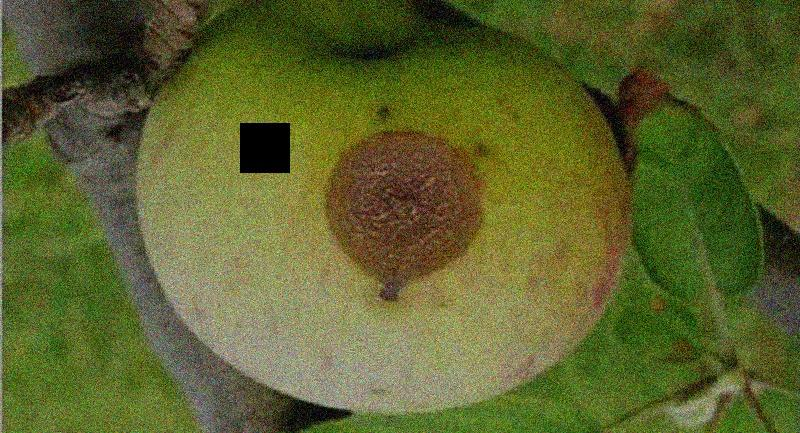rotten apple: (132, 3, 631, 415)
